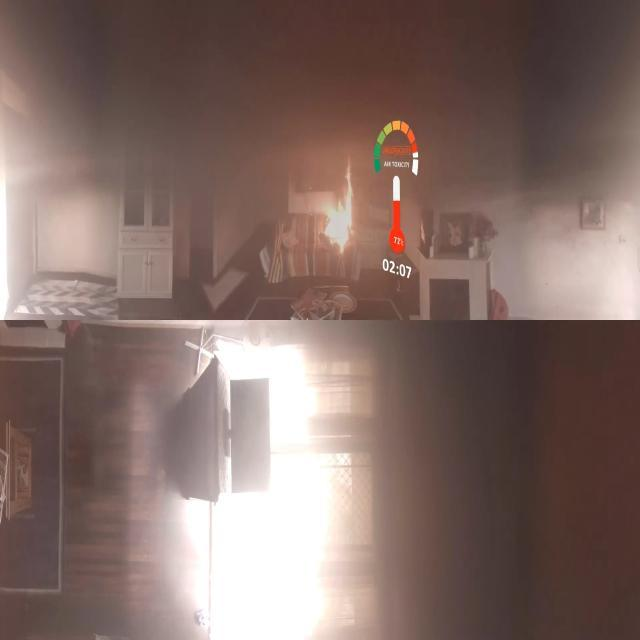Fire: (294, 123, 386, 284)
